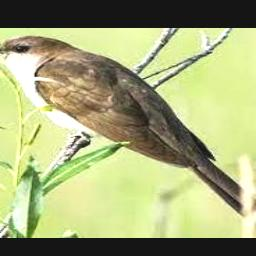Cuckoo: (0, 35, 256, 232)
